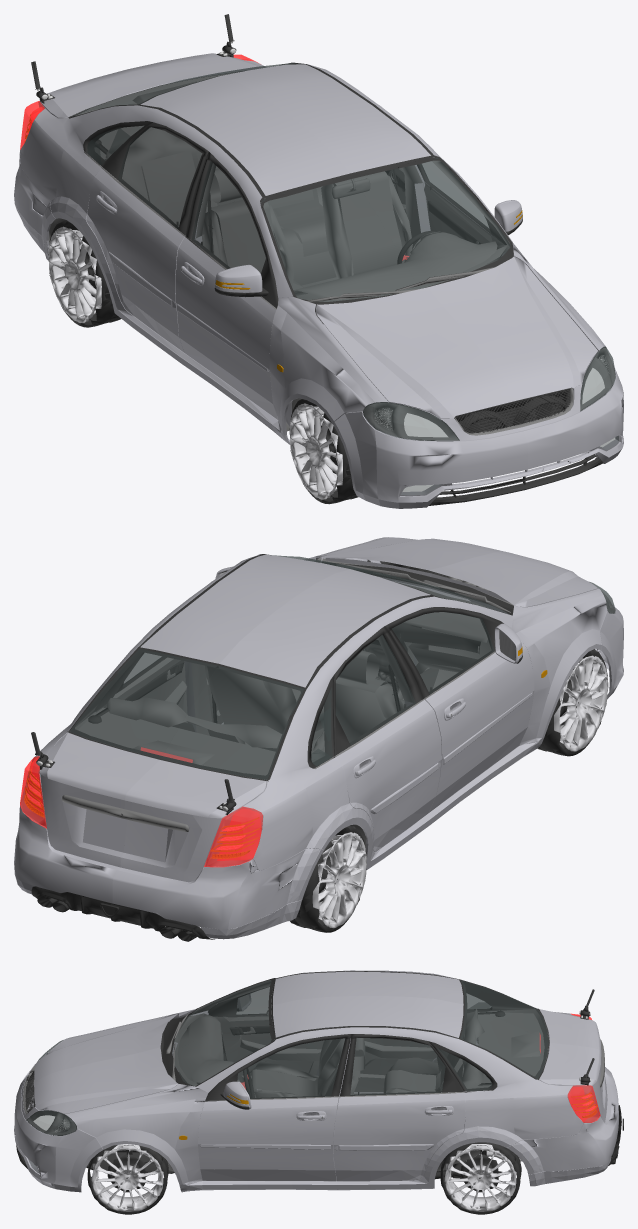
The model's file is gentra.glb.
The picture shows the model from 3 angles, top to bottom: view 1: azimuth 30°, elevation 25°; view 2: azimuth 150°, elevation 25°; view 3: azimuth 270°, elevation 25°; orthographic projection. The views are drawn at different scales.
Visible parts, largest first — view 1: body, wLF, wLB; view 2: body, wLF, wLB, sigR; view 3: body, wRF, wRB.
Part boxes in pixels (<box>): body: <box>14,14,623,508</box>; wLF: <box>48,220,121,327</box>; wLB: <box>289,399,358,504</box>; body: <box>14,537,623,941</box>; wLF: <box>290,825,366,932</box>; wLB: <box>537,649,608,756</box>; sigR: <box>211,646,547,858</box>; body: <box>14,970,623,1192</box>; wRF: <box>440,1142,521,1214</box>; wRB: <box>87,1144,168,1214</box>.
Size of the model in its own units: 1.89 by 1.4 by 4.5.
